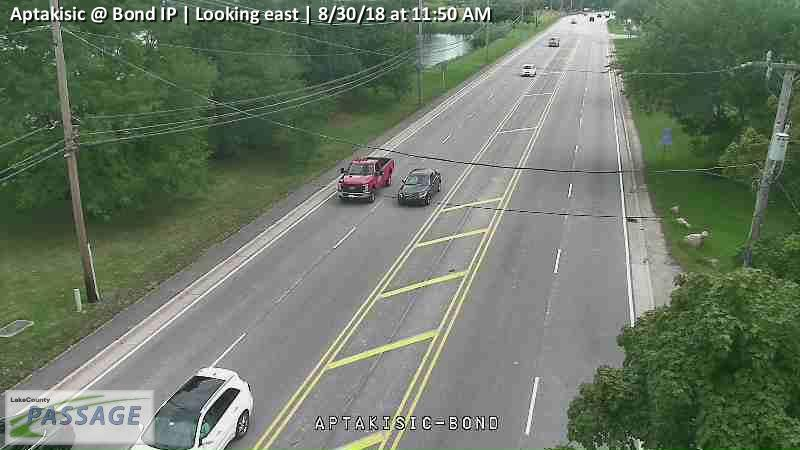SUV: (123, 367, 254, 450)
Sedan: (399, 168, 442, 205), (520, 64, 537, 77), (548, 37, 560, 48)
Truck: (337, 156, 395, 203)
